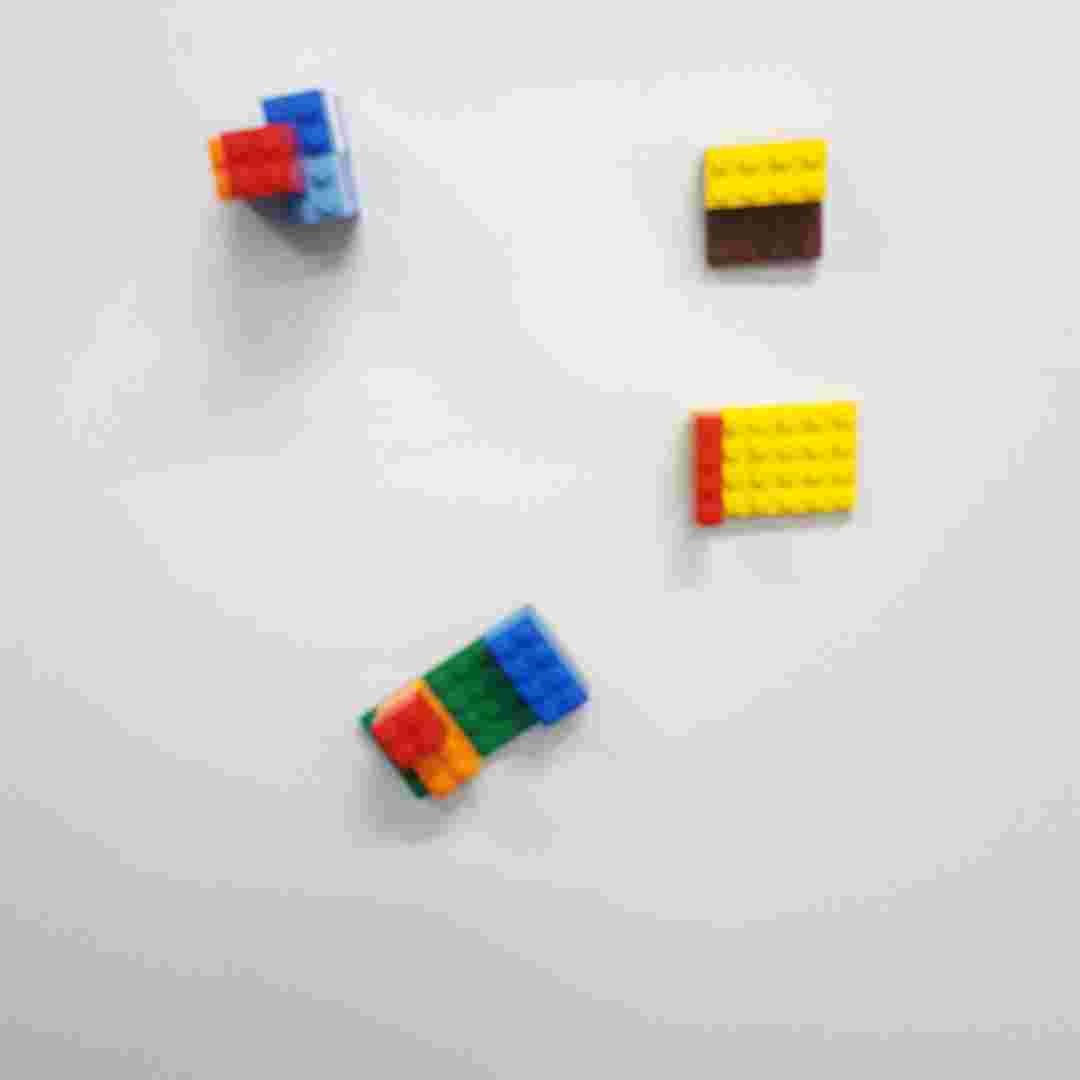LEGO: (353, 604, 601, 808), (683, 397, 867, 530), (200, 86, 364, 230), (694, 135, 837, 273)
